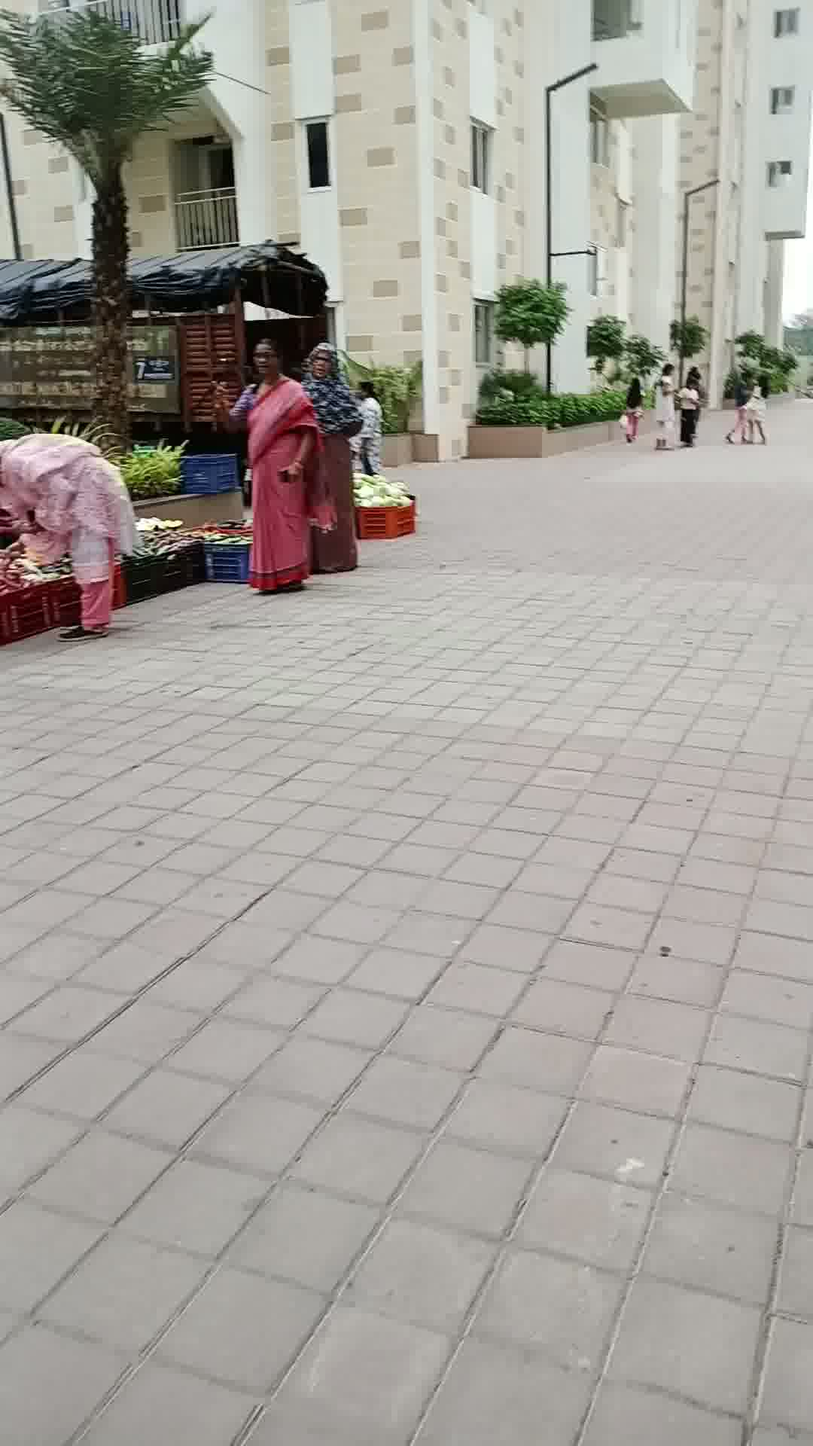person: (0, 398, 135, 645), (228, 325, 323, 587), (296, 314, 377, 580), (730, 363, 758, 460), (655, 361, 682, 458), (619, 372, 646, 452), (750, 360, 772, 455), (678, 372, 705, 448)
tree: (0, 5, 228, 460), (489, 264, 561, 423), (594, 300, 629, 429), (668, 299, 715, 377)
